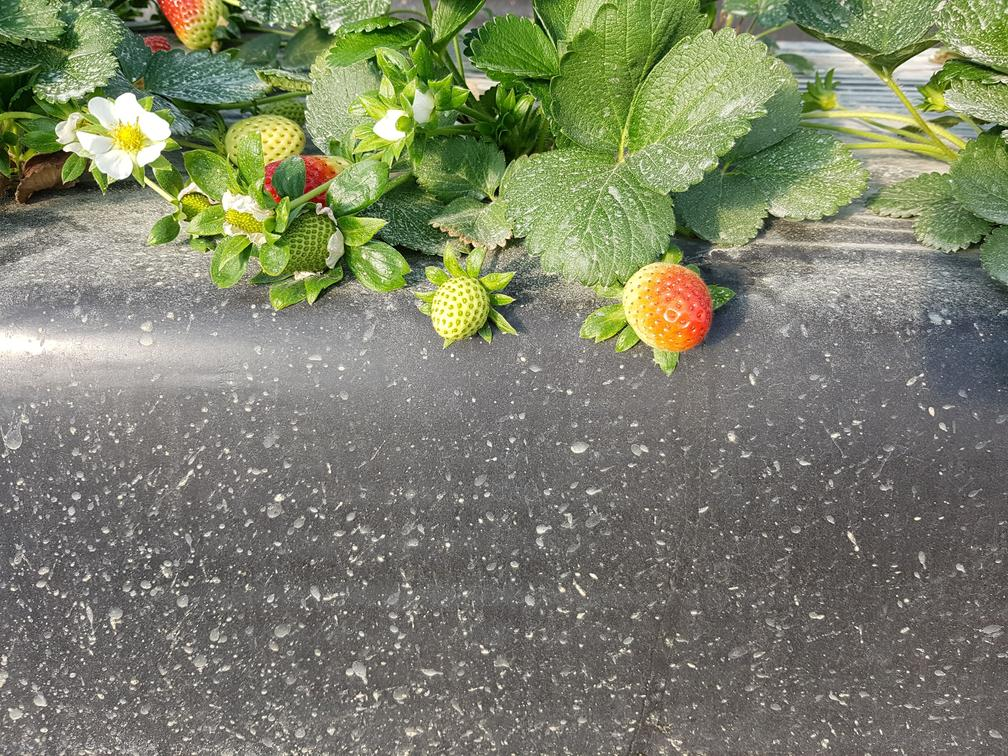Ripe: (608, 258, 726, 356)
Unripe: (218, 113, 316, 163), (424, 278, 500, 339), (284, 215, 347, 271)
